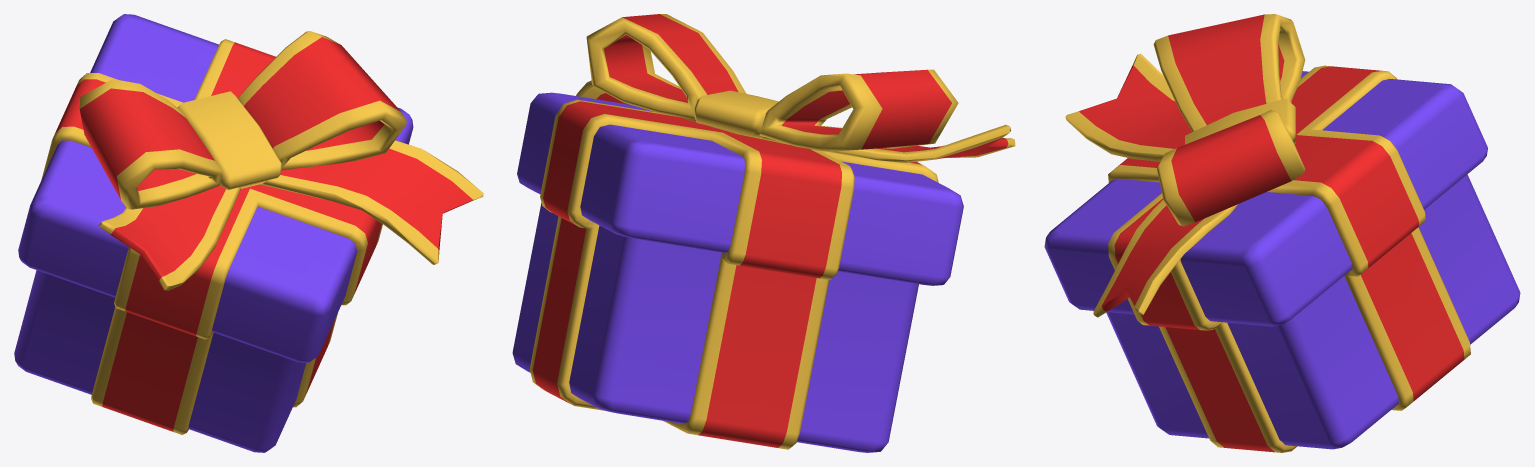
The picture shows the model from 3 angles, left to right: view 1: azimuth 30°, elevation 25°; view 2: azimuth 150°, elevation 25°; view 3: azimuth 270°, elevation 25°; orthographic projection. The views are drawn at different scales.
Visible parts, largest first — view 1: model_1.067; view 2: model_1.067; view 3: model_1.067.
Part boxes in pixels (x1,y1,x2,y2): model_1.067: [14, 14, 483, 452]; model_1.067: [512, 14, 1015, 452]; model_1.067: [1044, 14, 1520, 452].
Size of the model in its own units: 4.86 by 4.2 by 4.92.
